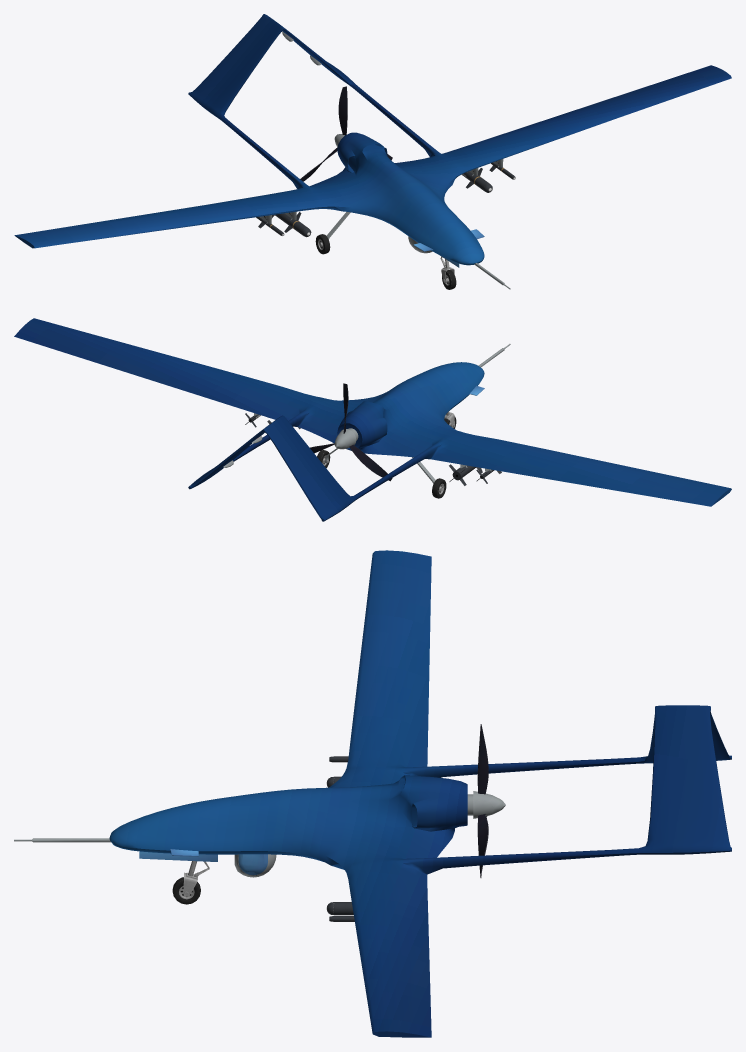
Rendered from uav_tx_5.glb.
3 renders of one model, top to bottom at view 1: azimuth 30°, elevation 25°; view 2: azimuth 150°, elevation 25°; view 3: azimuth 270°, elevation 25°, orthographic. The views are drawn at different scales.
Visible parts, largest first — view 1: Object_6, Object_4; view 2: Object_6, Object_4; view 3: Object_6, Object_4, Object_5.
Part boxes in pixels (x1=…): Object_6: x1=14, y1=14, x2=731, y2=265; Object_4: x1=256, y1=32, x2=515, y2=289; Object_6: x1=14, y1=318, x2=731, y2=521; Object_4: x1=223, y1=344, x2=510, y2=498; Object_6: x1=109, y1=550, x2=731, y2=1037; Object_4: x1=14, y1=724, x2=505, y2=921; Object_5: x1=139, y1=849, x2=267, y2=875.
Bounding box in the file's own units: 11.96 × 2.3 × 7.54.
3 materials, 3 textured.
